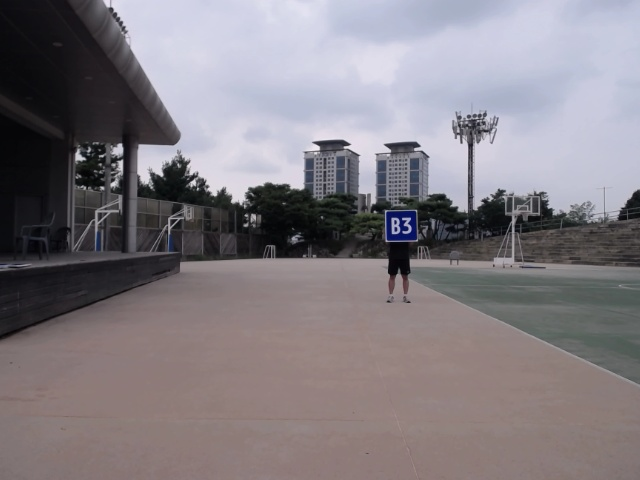delivery_b3: (384, 210, 420, 243)
